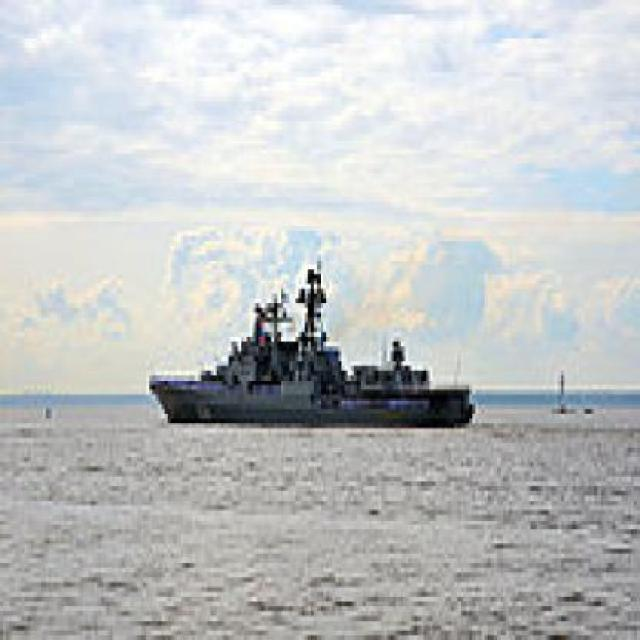warship2: (150, 233, 467, 430)
